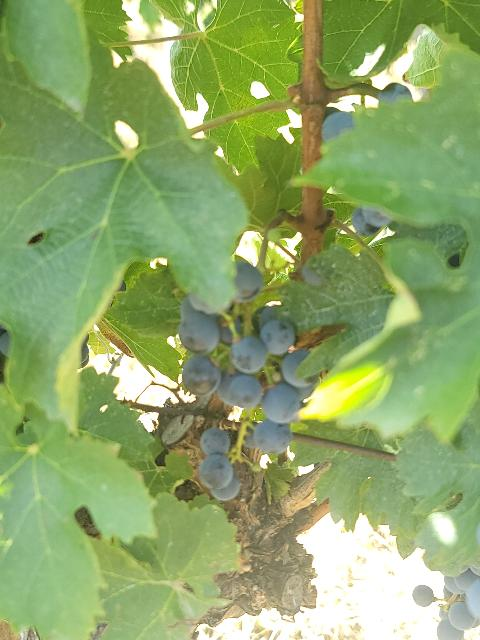grapes: (179, 260, 316, 500)
